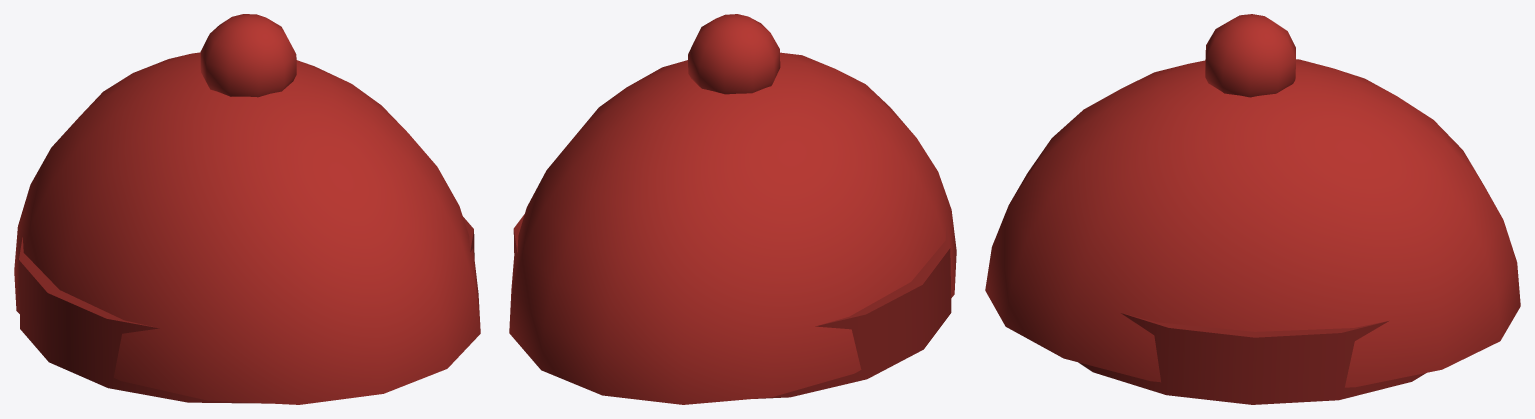
The model's file is beanie_m.glb.
3 views of the same model, side by side, from view 1: azimuth 30°, elevation 25°; view 2: azimuth 150°, elevation 25°; view 3: azimuth 270°, elevation 25° (orthographic). The views are drawn at different scales.
Visible parts, largest first — view 1: beanie_m; view 2: beanie_m; view 3: beanie_m.
Part boxes in pixels (left/top/right/bottom): beanie_m: left=14, top=14, right=480, bottom=404; beanie_m: left=509, top=14, right=956, bottom=404; beanie_m: left=985, top=14, right=1520, bottom=404.
Bounding box in the file's own units: 0.2103 × 0.153 × 0.2495.
